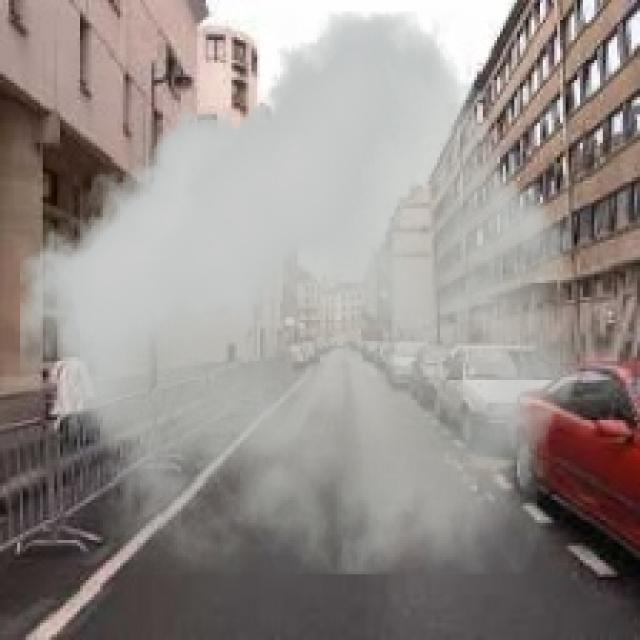Smoke: (20, 12, 580, 574)
